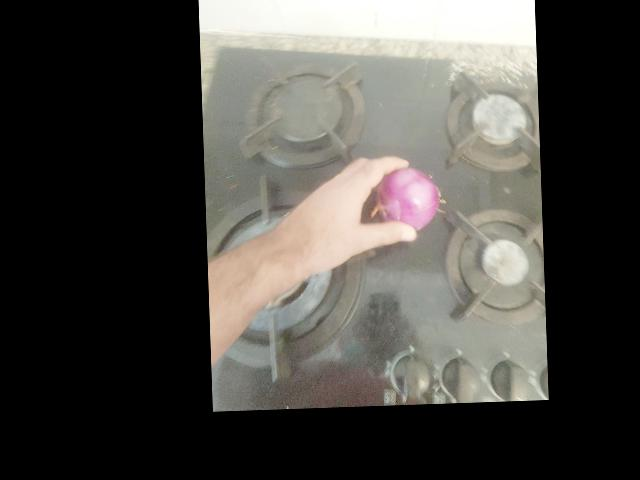onion: (418, 65, 478, 123)
